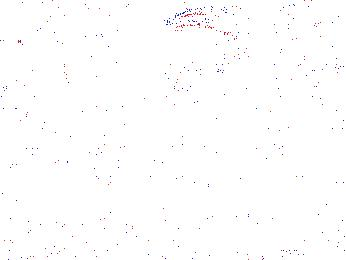moon jellyfish: (157, 9, 255, 64), (151, 25, 231, 89), (287, 1, 346, 74), (33, 2, 122, 39)
